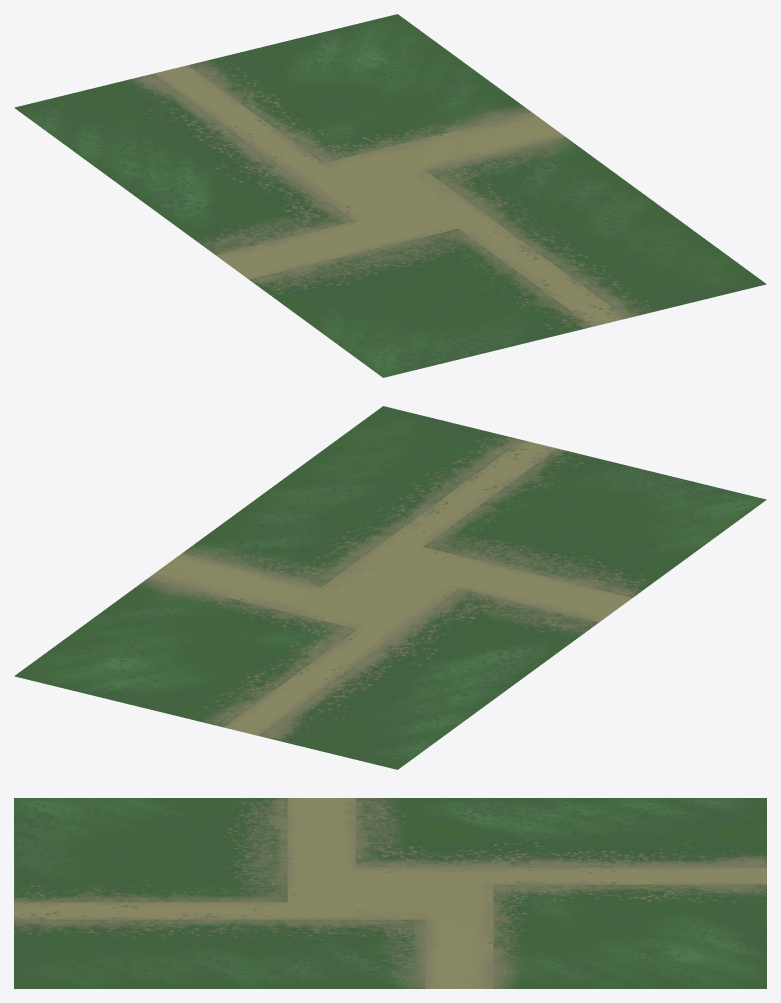
The model's file is DigraGroundTexturedTest.fbx.
3 renders of one model, top to bottom at view 1: azimuth 30°, elevation 25°; view 2: azimuth 150°, elevation 25°; view 3: azimuth 270°, elevation 25°, orthographic.
Visible parts, largest first — view 1: Plane; view 2: Plane; view 3: Plane.
Part boxes in pixels (box(x1,y1,x2,y2)): Plane: box(14, 14, 766, 377); Plane: box(14, 406, 766, 769); Plane: box(14, 798, 766, 988).
Bounding box in the file's own units: 1200 × 0 × 2000.
